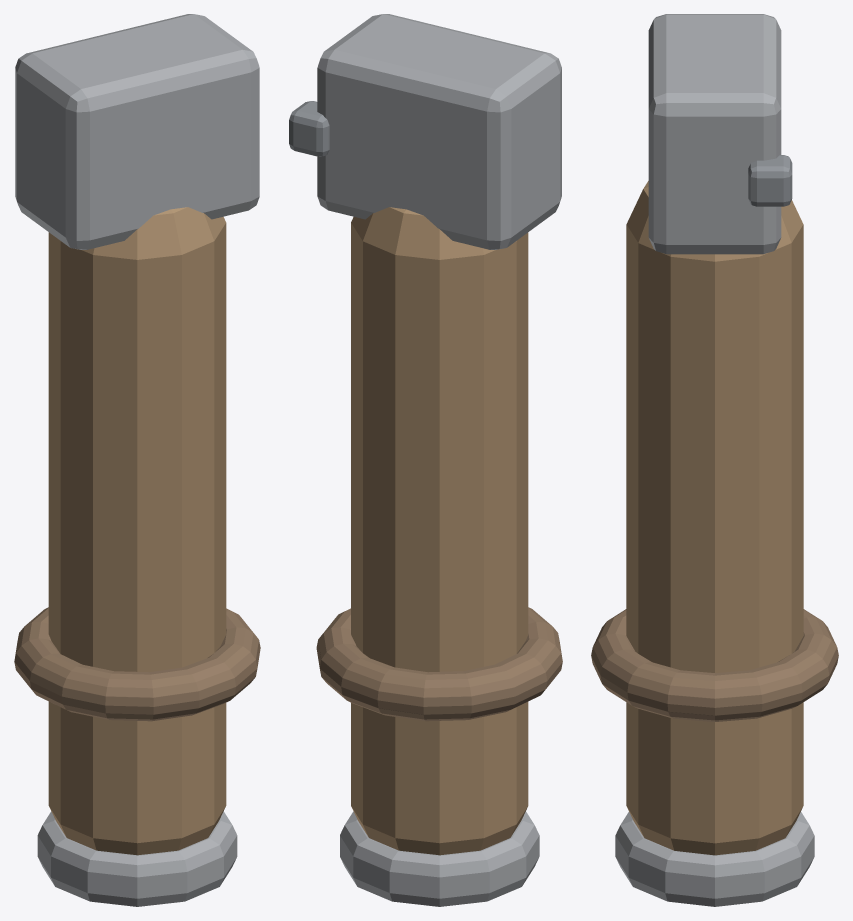
The model's file is apprentices_hammer.glb.
The picture shows the model from 3 angles, left to right: view 1: azimuth 30°, elevation 25°; view 2: azimuth 150°, elevation 25°; view 3: azimuth 270°, elevation 25°; orthographic projection.
Visible parts, largest first — view 1: Haft, Head, Grip, Pommel; view 2: Haft, Head, Grip, Pommel, Chip; view 3: Haft, Head, Grip, Pommel, Chip.
Part boxes in pixels (x1=…): Haft: x1=48, y1=207, x2=226, y2=855; Head: x1=15, y1=14, x2=259, y2=249; Grip: x1=14, y1=607, x2=260, y2=721; Pommel: x1=37, y1=811, x2=237, y2=906; Haft: x1=351, y1=207, x2=528, y2=855; Head: x1=317, y1=14, x2=561, y2=249; Grip: x1=316, y1=607, x2=562, y2=721; Pommel: x1=340, y1=811, x2=539, y2=906; Chip: x1=289, y1=101, x2=329, y2=156; Haft: x1=626, y1=181, x2=803, y2=855; Head: x1=648, y1=14, x2=781, y2=254; Grip: x1=591, y1=609, x2=838, y2=721; Pommel: x1=615, y1=812, x2=814, y2=906; Chip: x1=748, y1=155, x2=792, y2=206.
Size of the model in its own units: 0.116 by 0.4075 by 0.112.
